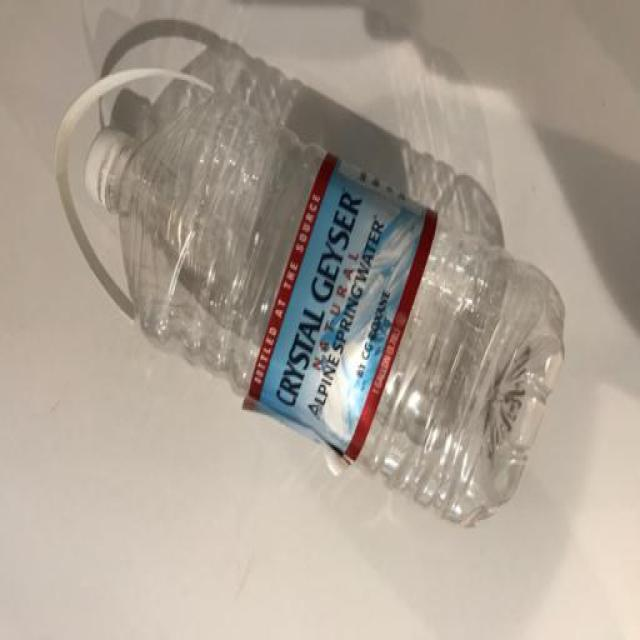bottle: (54, 68, 566, 527)
